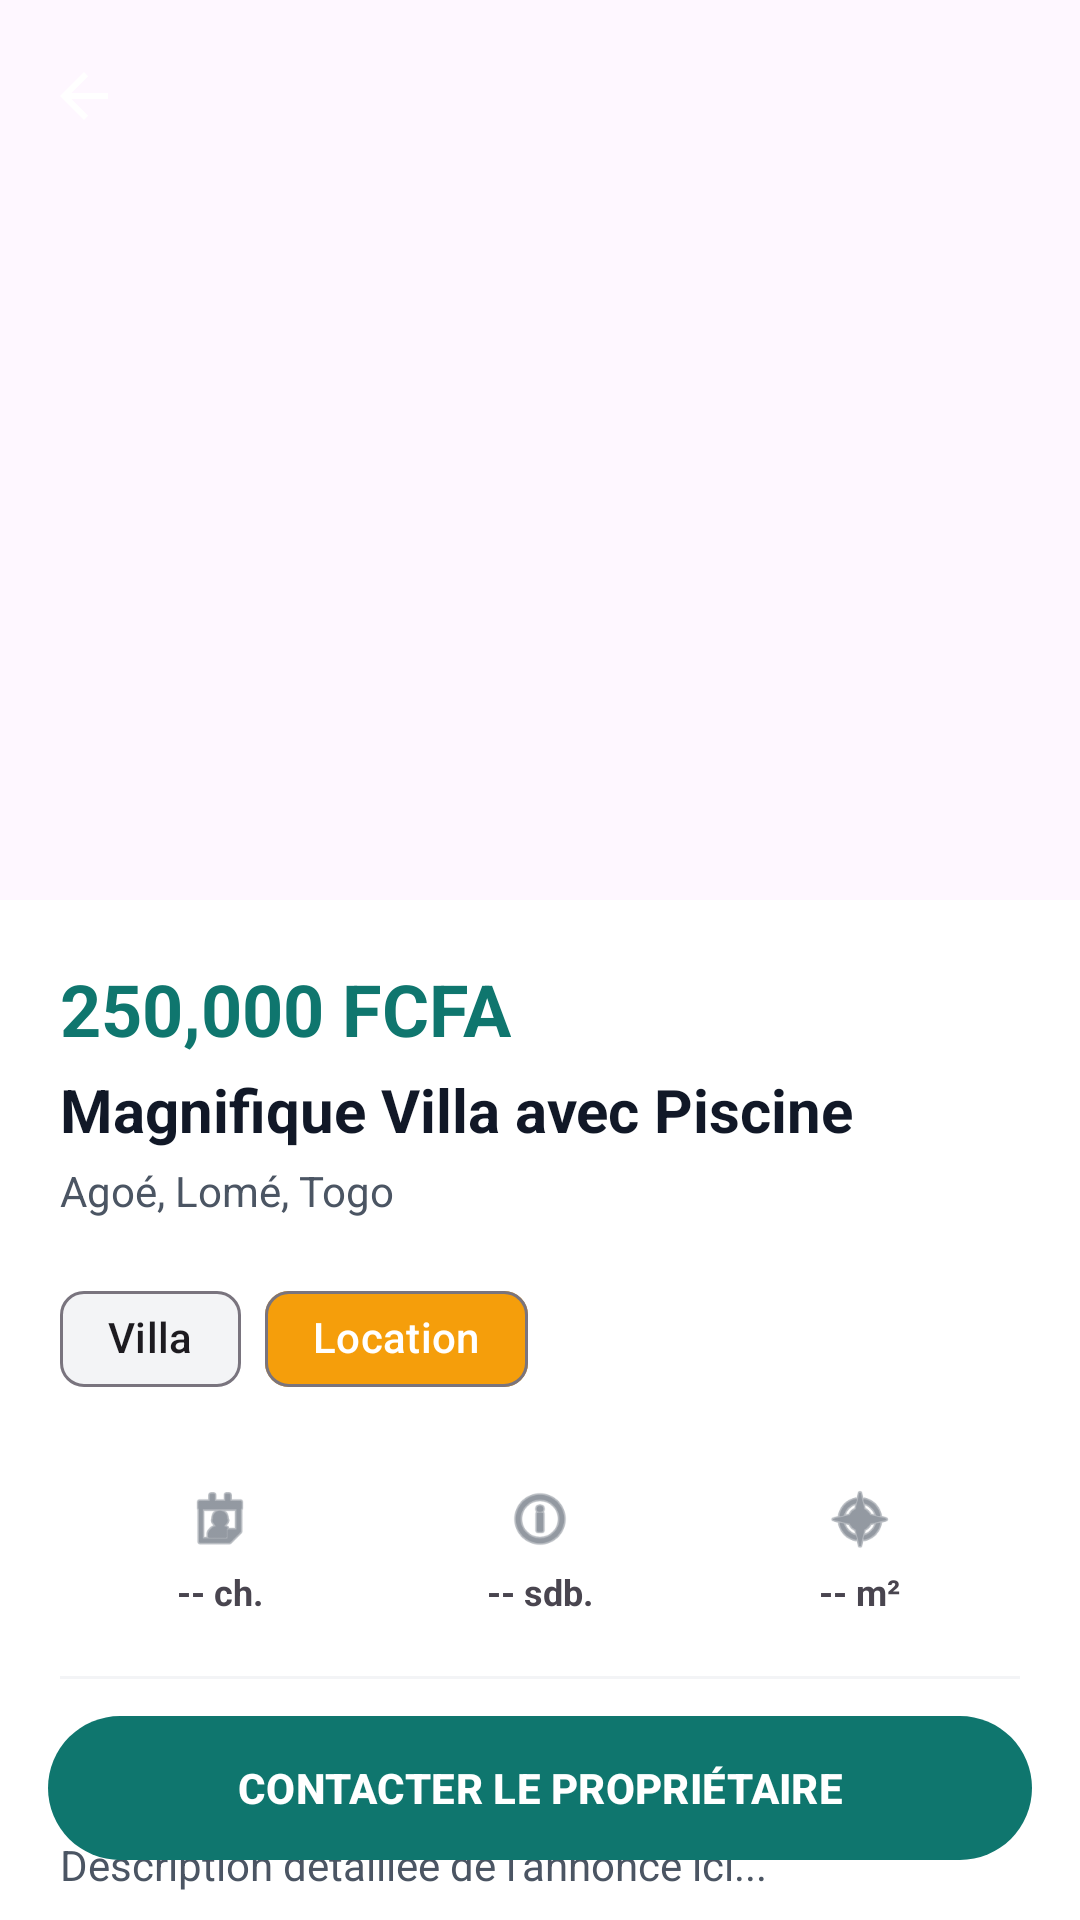

Locate icon controls on the screen. Image size 1080 × 1920, boxes as box=[x1, y1, x2, y2].
calendar: box=[197, 1492, 243, 1545]
compass: box=[831, 1491, 888, 1548]
info details: box=[514, 1493, 566, 1545]
